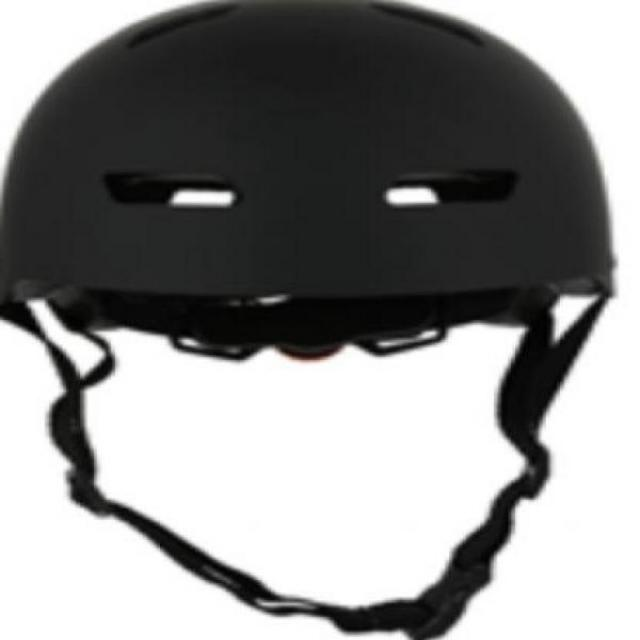Helmet: (1, 12, 618, 522)
